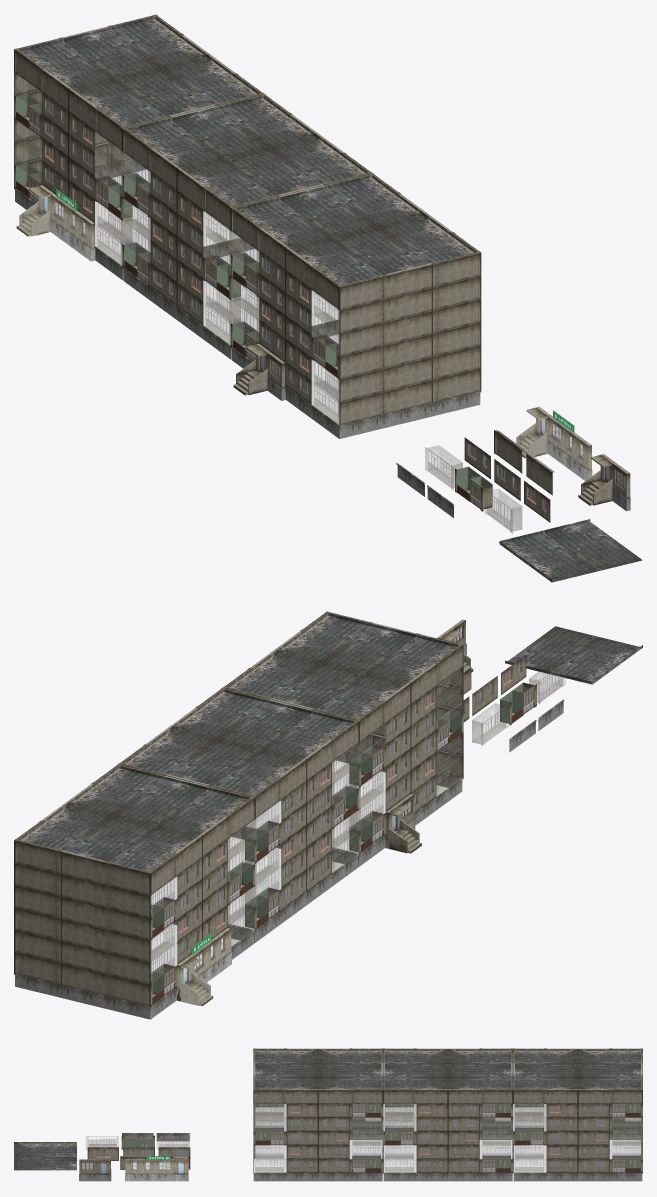
Rendered from house_a.glb.
3 renders of one model, top to bottom at view 1: azimuth 30°, elevation 25°; view 2: azimuth 150°, elevation 25°; view 3: azimuth 270°, elevation 25°, orthographic. The views are drawn at different scales.
Parts seen in each view (by area): view 1: Box017, Box015, Object199_Roof_01_0, Object059_Roof_01_0, Object135_Roof_01_0, Object021_Roof_01_0, Object167_Roof_01_0, Object083_Roof_01_0, Object103_Roof_01_0, Object085_Roof_01_0, Object202_Roof_01_0, Object064_Roof_01_0 (+45 smaller); view 2: Box017, Object064_Roof_01_0, Object202_Roof_01_0, Object138_Roof_01_0, Object107_Roof_01_0, Object171_Roof_01_0, Object027_Roof_01_0, Object059_Roof_01_0, Object199_Roof_01_0, Object135_Roof_01_0, Object083_Roof_01_0, Object025_Roof_01_0 (+101 smaller); view 3: Box015, Object017_Roof_01_0, Object025_Roof_01_0, Object101_Roof_01_0, Object105_Roof_01_0, Object165_Roof_01_0, Object169_Roof_01_0, Object083_Roof_01_0, Object021_Roof_01_0, Object027_Roof_01_0, Object085_Roof_01_0, Object103_Roof_01_0 (+108 smaller).
Boxes of the visible parts, bbox=[...] form: Box017: bbox=[16, 185, 95, 261]; Box015: bbox=[516, 406, 592, 480]; Object199_Roof_01_0: bbox=[109, 16, 207, 68]; Object059_Roof_01_0: bbox=[326, 175, 424, 227]; Object135_Roof_01_0: bbox=[218, 95, 315, 147]; Object021_Roof_01_0: bbox=[280, 186, 378, 238]; Object167_Roof_01_0: bbox=[64, 27, 161, 79]; Object083_Roof_01_0: bbox=[499, 530, 596, 582]; Object103_Roof_01_0: bbox=[172, 107, 269, 158]; Object085_Roof_01_0: bbox=[545, 519, 642, 571]; Object202_Roof_01_0: bbox=[162, 55, 259, 104]; Object064_Roof_01_0: bbox=[379, 213, 476, 263]; Box017: bbox=[177, 928, 231, 1006]; Object064_Roof_01_0: bbox=[277, 613, 371, 663]; Object202_Roof_01_0: bbox=[68, 765, 163, 815]; Object138_Roof_01_0: bbox=[173, 689, 267, 739]; Object107_Roof_01_0: bbox=[217, 700, 311, 750]; Object171_Roof_01_0: bbox=[113, 776, 206, 826]; Object027_Roof_01_0: bbox=[321, 624, 415, 673]; Object059_Roof_01_0: bbox=[227, 650, 320, 698]; Object199_Roof_01_0: bbox=[18, 803, 112, 850]; Object135_Roof_01_0: bbox=[123, 726, 216, 774]; Object083_Roof_01_0: bbox=[548, 637, 642, 684]; Object025_Roof_01_0: bbox=[365, 634, 458, 683]; Box015: bbox=[125, 1156, 188, 1181]; Object017_Roof_01_0: bbox=[318, 1049, 381, 1064]; Object025_Roof_01_0: bbox=[255, 1049, 318, 1064]; Object101_Roof_01_0: bbox=[448, 1049, 510, 1064]; Object105_Roof_01_0: bbox=[385, 1049, 447, 1064]; Object165_Roof_01_0: bbox=[578, 1049, 640, 1064]; Object169_Roof_01_0: bbox=[515, 1049, 577, 1064]; Object083_Roof_01_0: bbox=[14, 1142, 76, 1156]; Object021_Roof_01_0: bbox=[318, 1064, 381, 1077]; Object027_Roof_01_0: bbox=[255, 1064, 318, 1077]; Object085_Roof_01_0: bbox=[14, 1157, 76, 1170]; Object103_Roof_01_0: bbox=[448, 1064, 510, 1077].
Bounding box in the file's own units: 18652 × 15836 × 98816.
11 materials, 11 textured.
